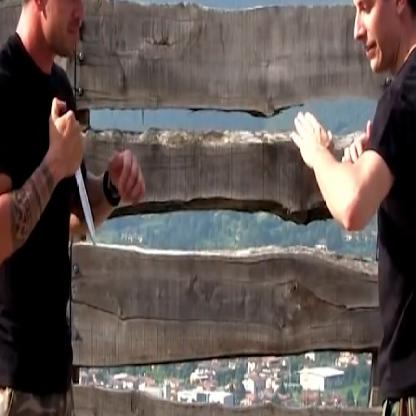knife: (49, 94, 102, 256)
